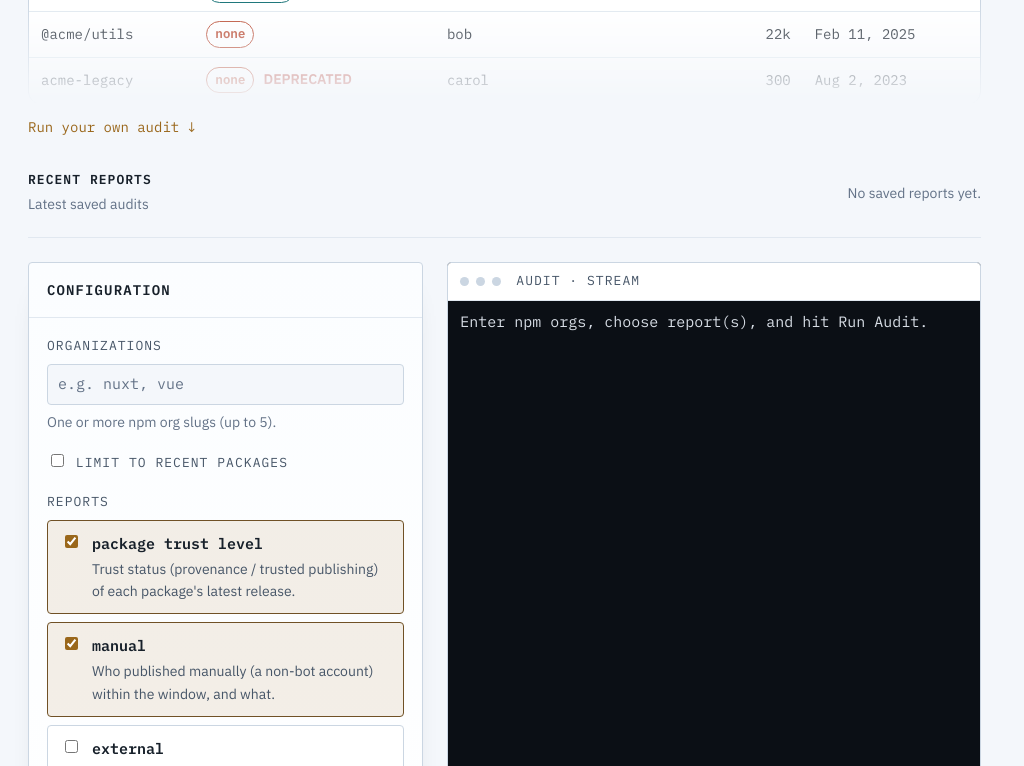
Scenario: App › defaults to all scope and shows history only for all-scope org sets
The image size is (1024, 766).
(page scrolled)
Expected: the checkbox labelled "Limit to recent packages" is not checked, x1=51 y1=454 x2=64 y2=467
Expected: the number field labelled "Window (months)" is not shown
In the field with placeholder "e.g. nuxt, vue": (226, 384) x1=56 y1=371 x2=395 y2=398, type "netlify"
Then press Enter
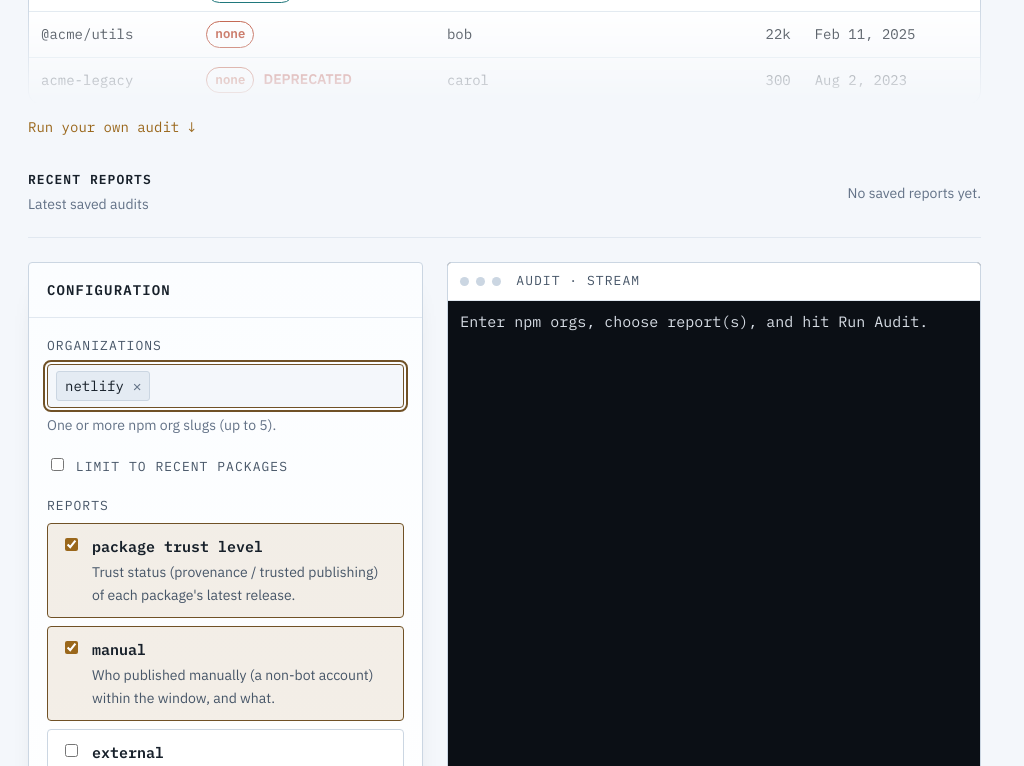
Click the checkbox labelled "Limit to recent packages": (58, 464) x1=51 y1=458 x2=64 y2=471
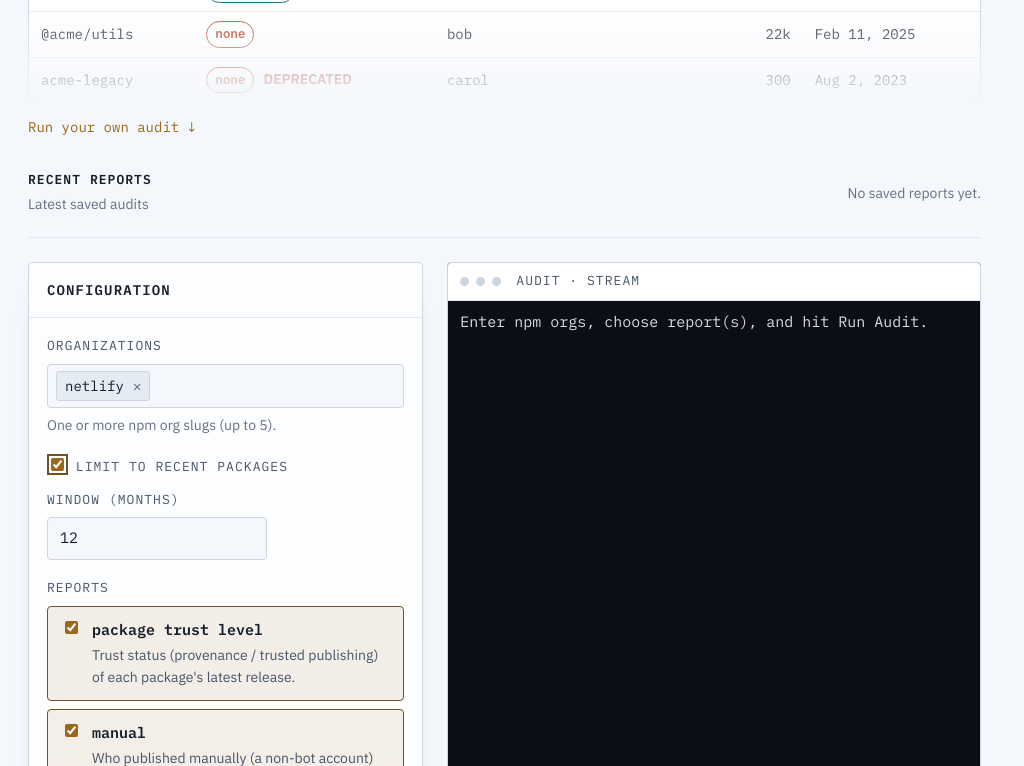
Expected: the number field labelled "Window (months)" is enabled, x1=47 y1=517 x2=267 y2=560
